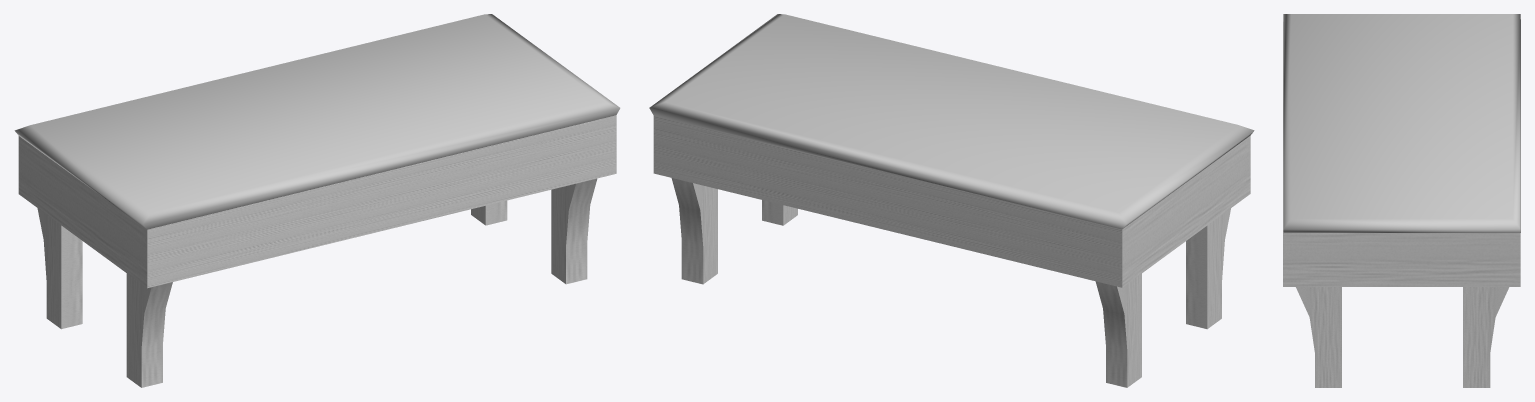
File: Piano_E_Bench.FBX
The picture shows the model from 3 angles, left to right: view 1: azimuth 30°, elevation 25°; view 2: azimuth 150°, elevation 25°; view 3: azimuth 270°, elevation 25°; orthographic projection. The views are drawn at different scales.
Parts seen in each view (by area): view 1: Bench_lid, Piano Bench; view 2: Bench_lid, Piano Bench; view 3: Bench_lid, Piano Bench.
Part boxes in pixels (x1,y1,x2,y2): Bench_lid: [14, 14, 620, 229]; Piano Bench: [18, 115, 616, 387]; Bench_lid: [649, 14, 1254, 229]; Piano Bench: [653, 115, 1250, 387]; Bench_lid: [1283, 14, 1520, 232]; Piano Bench: [1283, 22, 1520, 387].
Bounding box in the file's own units: 214 × 79.26 × 99.76.
